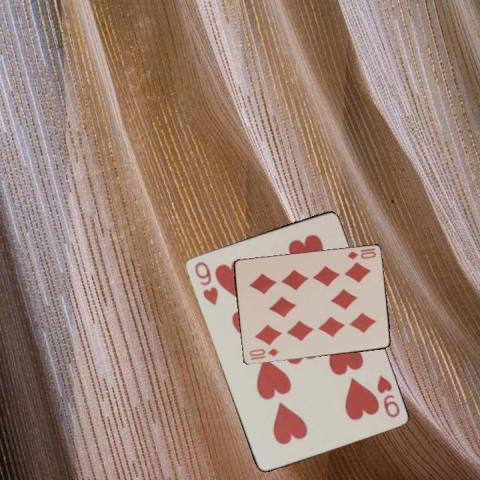10d: (246, 346, 279, 362), (344, 245, 377, 261)
9h: (191, 258, 219, 307), (373, 372, 401, 420)
